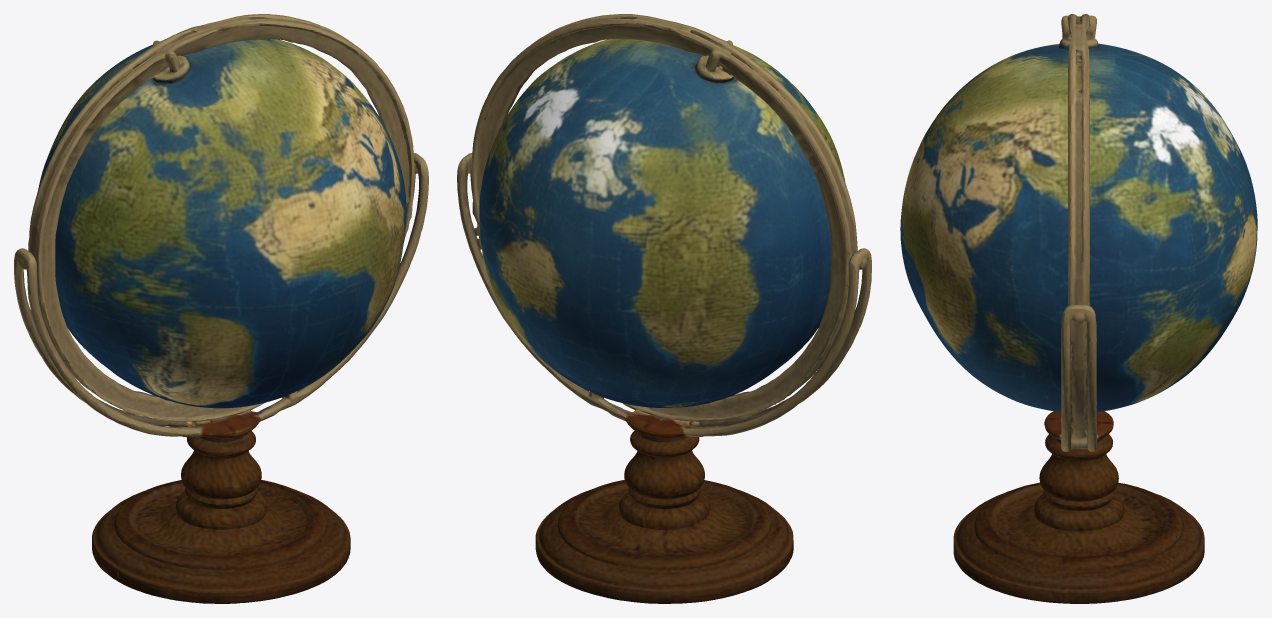
The model's file is parts.glb.
3 views of the same model, side by side, from view 1: azimuth 30°, elevation 25°; view 2: azimuth 150°, elevation 25°; view 3: azimuth 270°, elevation 25° (orthographic). The views are drawn at different scales.
Size of the model in its own units: 0.3605 by 0.45 by 0.2822.
Materials: 4 (4 with a texture image).
